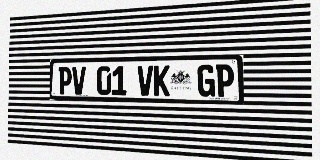0: (97, 66, 111, 95)
1: (112, 66, 126, 95)
G: (197, 64, 215, 97)
K: (154, 65, 170, 96)
P: (216, 64, 234, 97), (58, 67, 72, 94)
V: (137, 65, 153, 96), (72, 66, 86, 95)
